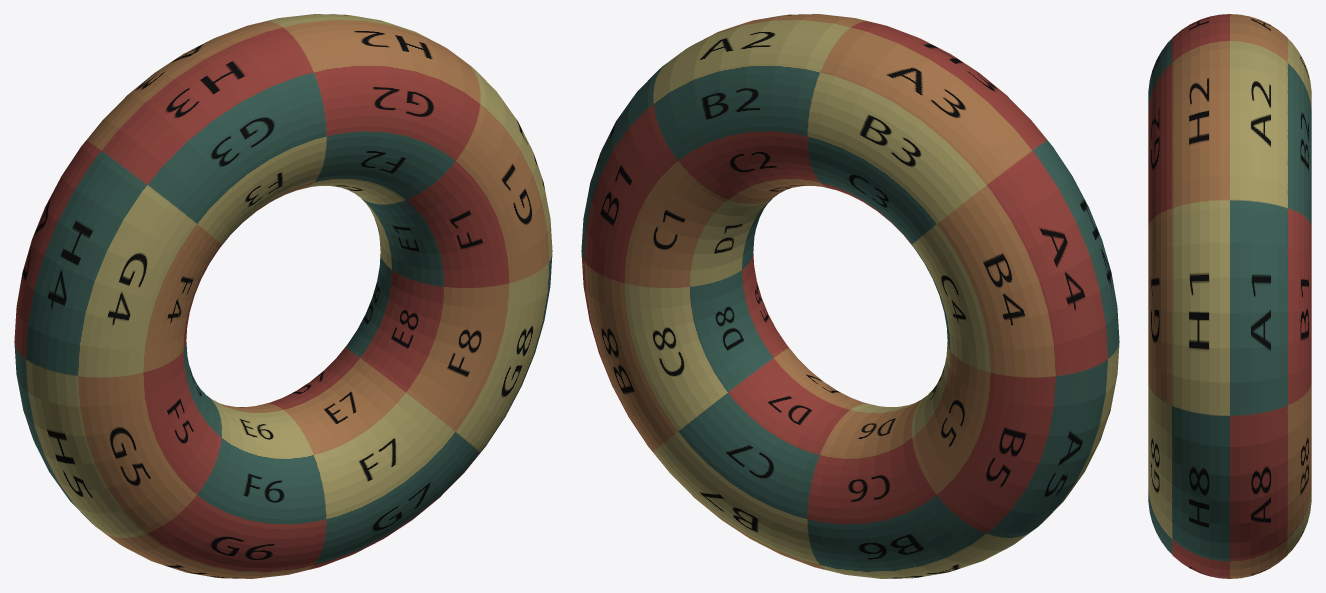
The model's file is texture_torus_R14_r22.glb.
3 views of the same model, side by side, from view 1: azimuth 30°, elevation 25°; view 2: azimuth 150°, elevation 25°; view 3: azimuth 270°, elevation 25° (orthographic). The views are drawn at different scales.
Visible parts, largest first — view 1: world; view 2: world; view 3: world.
Part boxes in pixels (bbox=[...]): world: bbox=[14, 14, 552, 578]; world: bbox=[581, 14, 1119, 578]; world: bbox=[1148, 14, 1311, 578].
Bounding box in the file's own units: 27.2 × 27.15 × 7.85.
1 material, 1 textured.
